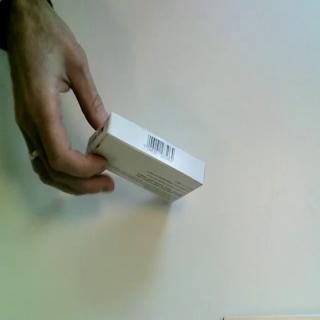oxycontin15mg: (84, 111, 208, 205)
